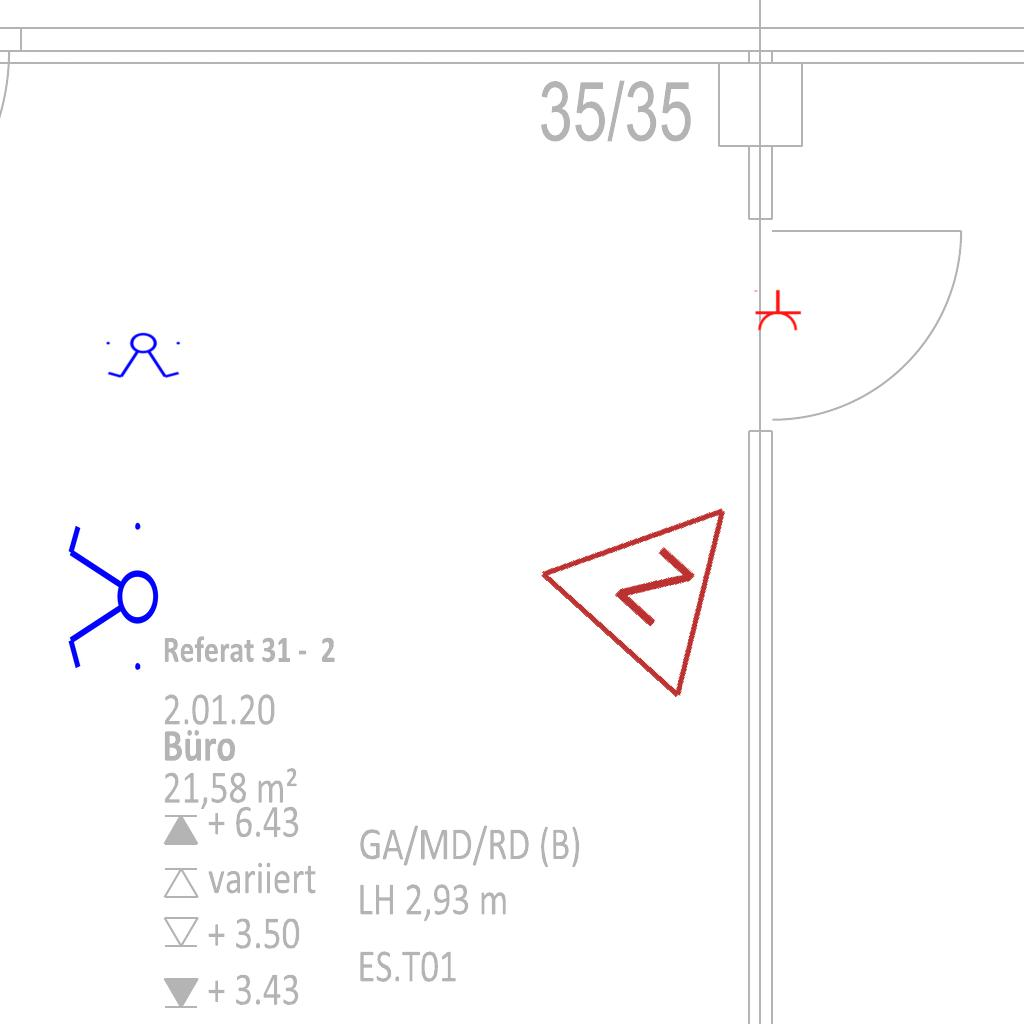Schukosteckdose_einfach: (752, 289, 802, 332)
Serienschalter: (64, 514, 160, 682), (102, 332, 186, 380)
Zimmersignalleuchte: (524, 432, 804, 712)
